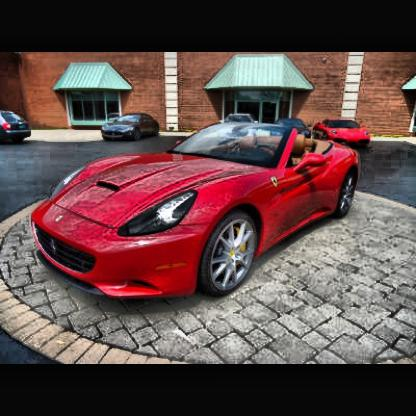Ferrari California Convertible 2012: (30, 121, 359, 308)
